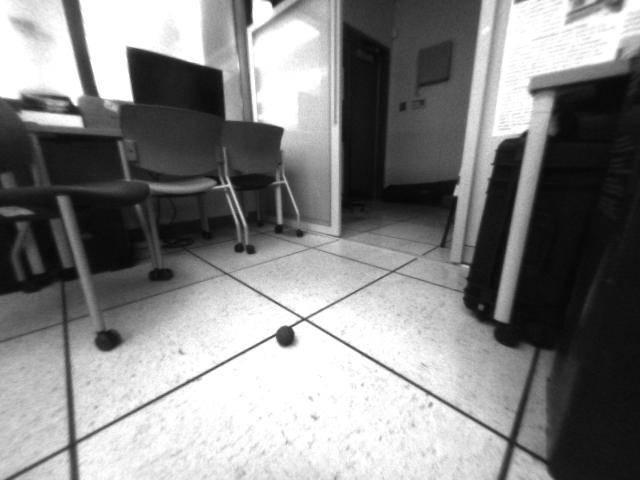dogtoy: (269, 319, 301, 352)
